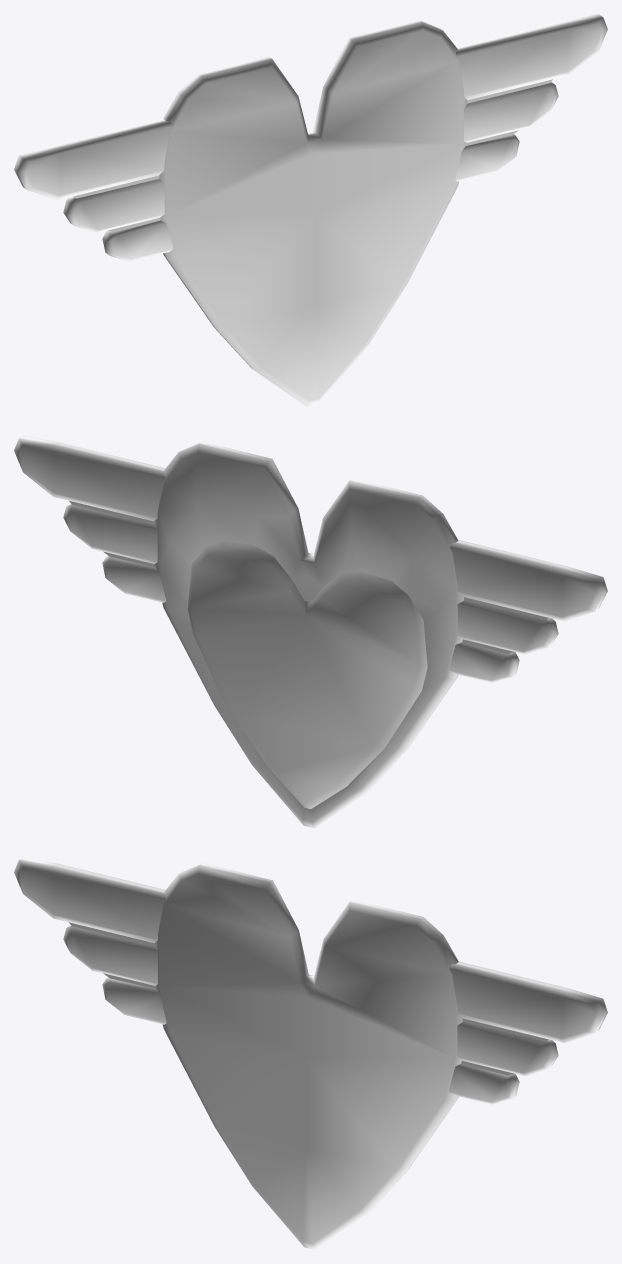
The model's file is icon1.ico.obj.
The picture shows the model from 3 angles, top to bottom: view 1: azimuth 30°, elevation 25°; view 2: azimuth 150°, elevation 25°; view 3: azimuth 330°, elevation 25°; orthographic projection.
Bounding box in the file's own units: 4.77 × 2.76 × 0.1362.
Materials: 1 (1 with a texture image).
